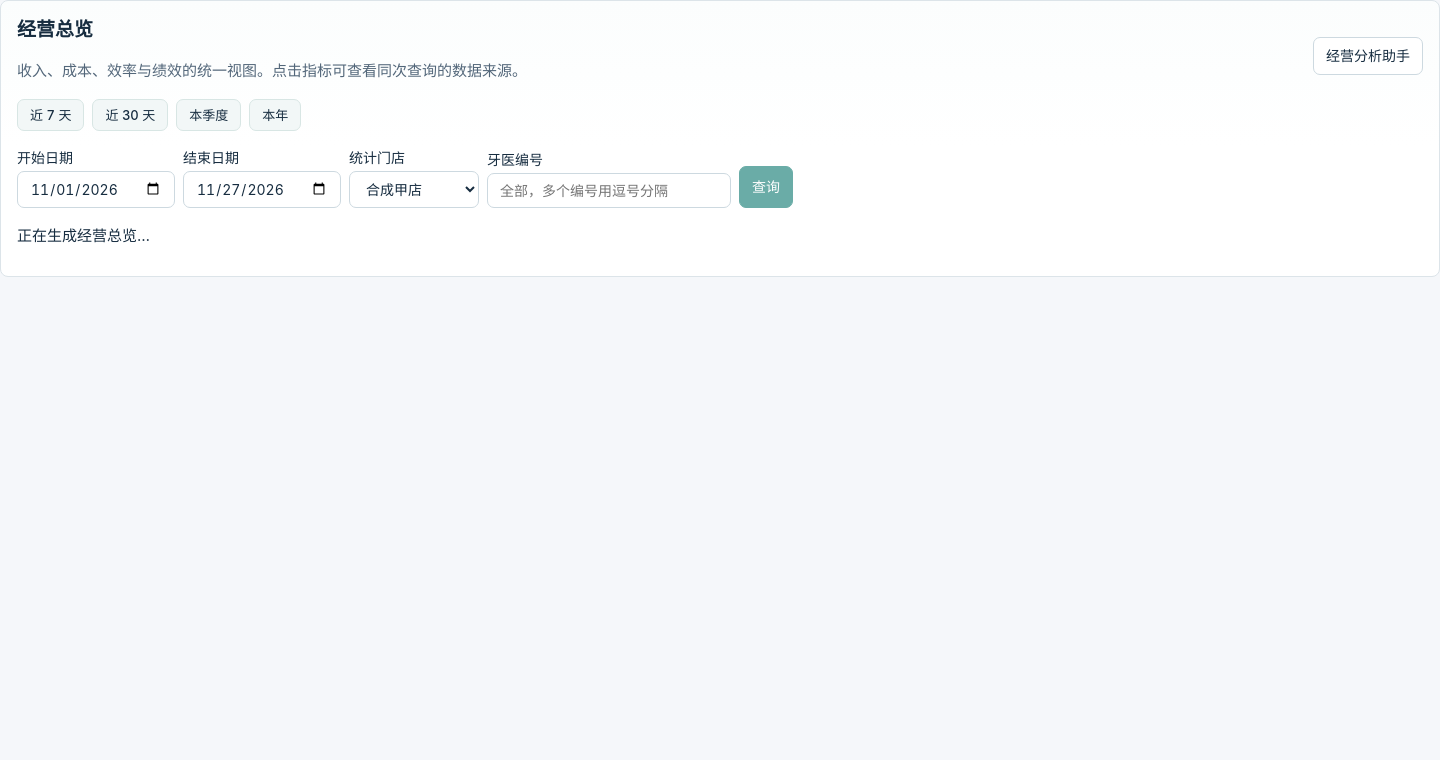
Test: reports show both rate numerators and open details using the same query token
This screenshot has width=1440, height=760.
Click the button "查询" at (766,187), box left=739, top=166, right=793, bottom=208
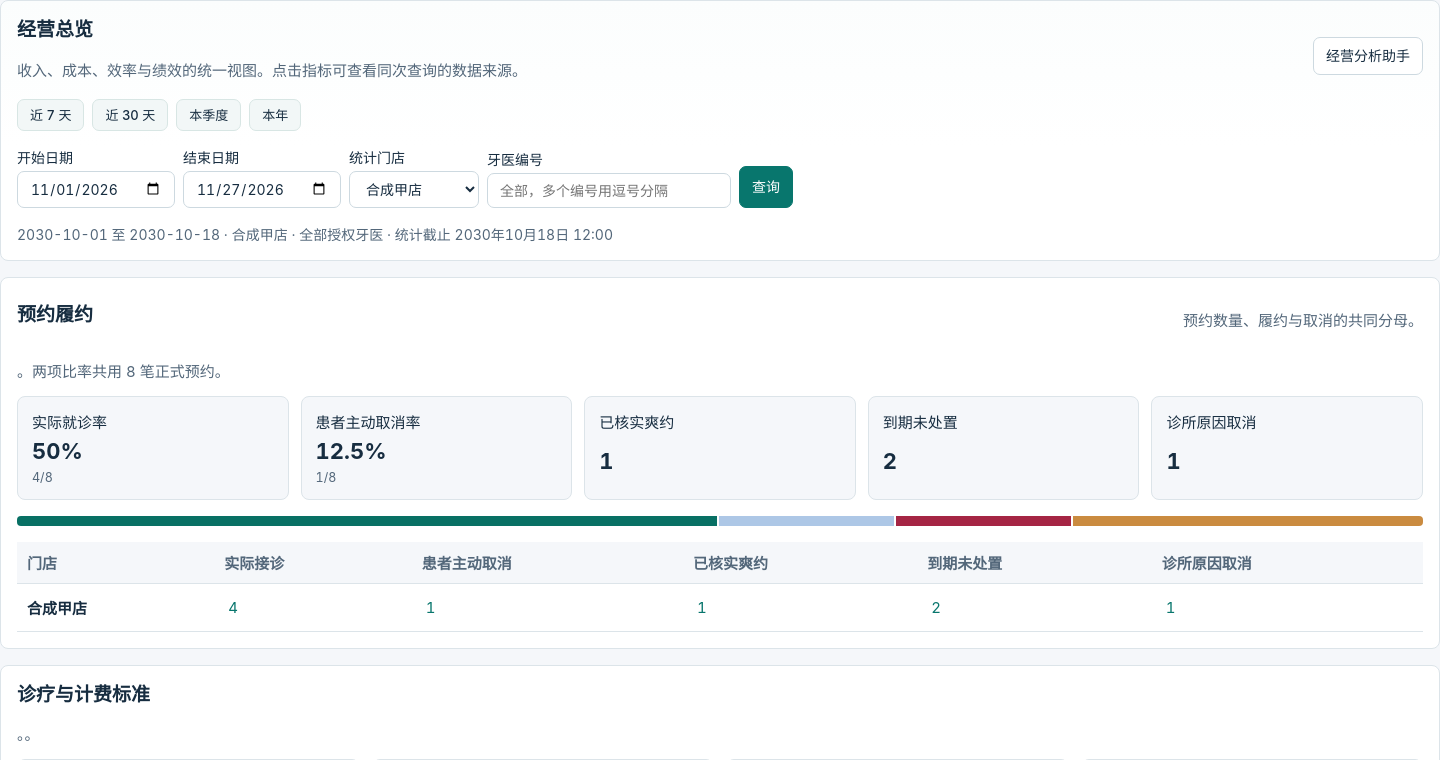
Result: the text "4/8" is shown at left=32, top=470, right=53, bottom=485
Result: the text "1/8" is shown at left=316, top=470, right=336, bottom=485
Click the button named "合成甲店 到期未处置 2" at (936,607), box left=927, top=594, right=945, bottom=621
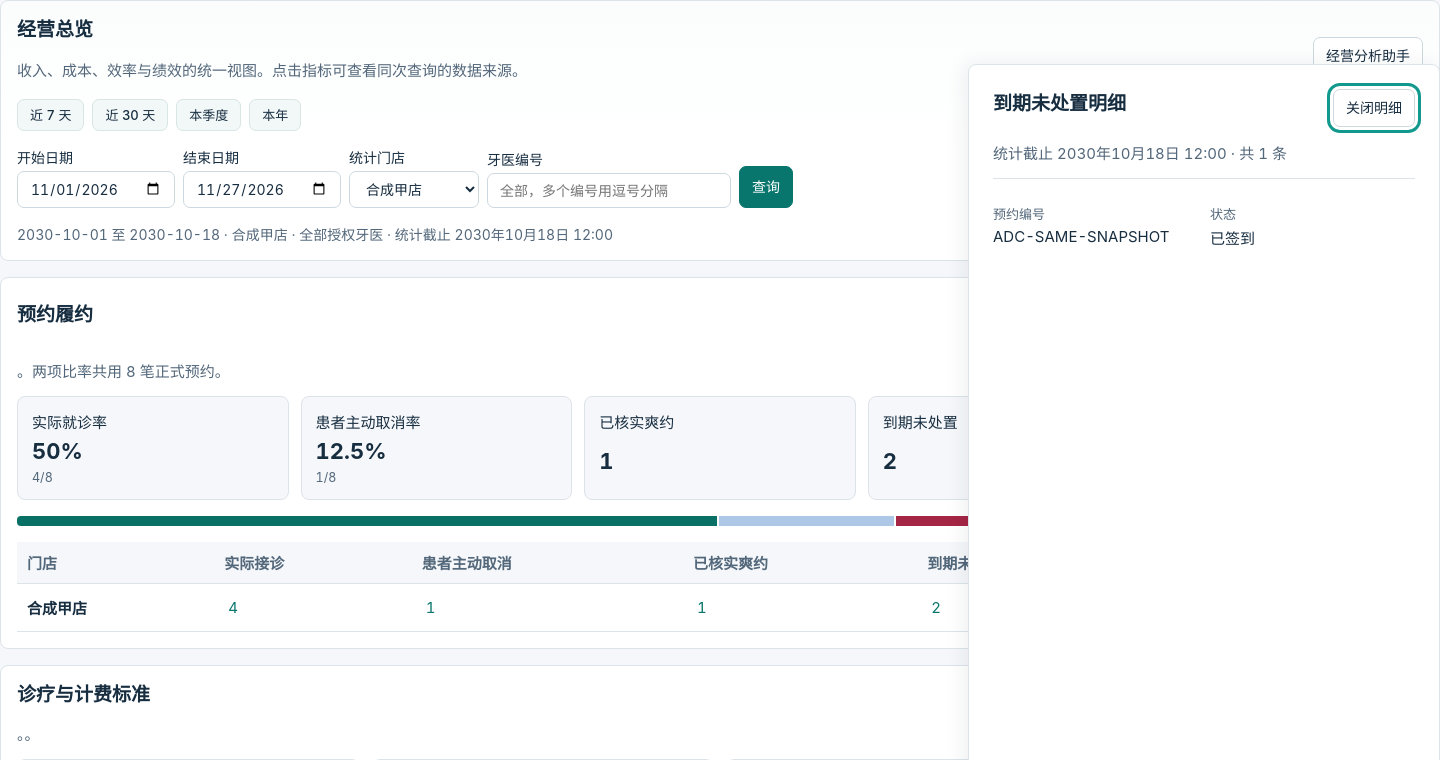
Result: the text "ADC-SAME-SNAPSHOT" is shown at left=993, top=227, right=1198, bottom=246
